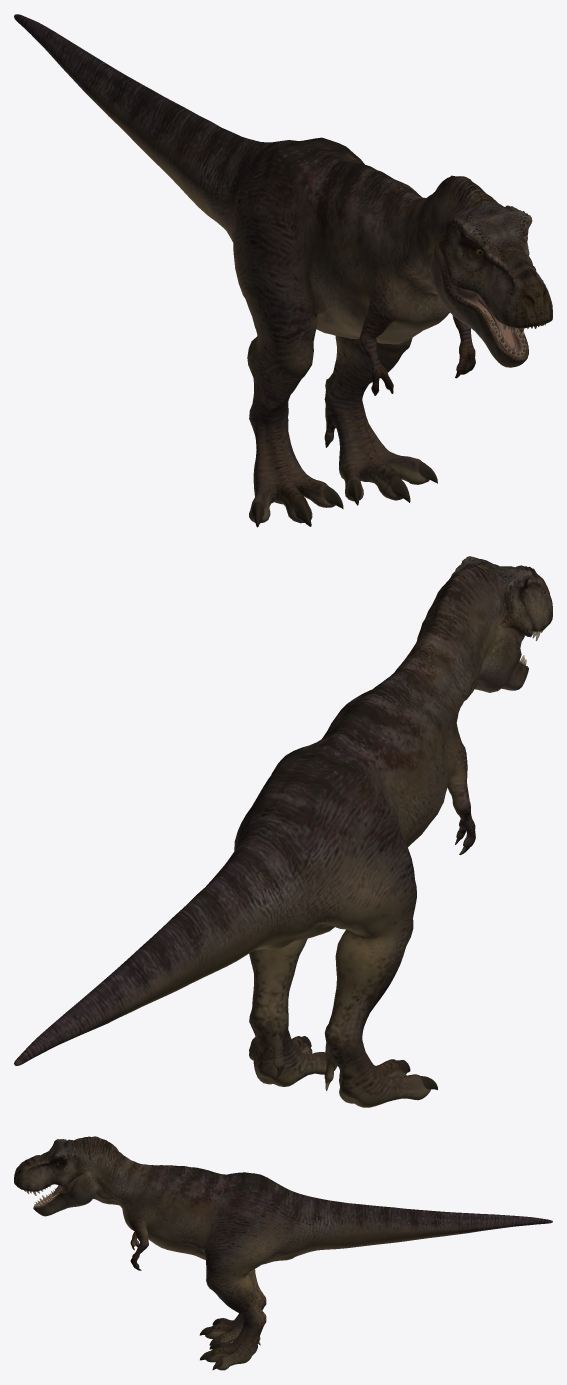
The model's file is tyrannosaurus-rex.glb.
The picture shows the model from 3 angles, top to bottom: view 1: azimuth 30°, elevation 25°; view 2: azimuth 150°, elevation 25°; view 3: azimuth 270°, elevation 25°; orthographic projection. The views are drawn at different scales.
Visible parts, largest first — view 1: Object_4; view 2: Object_4; view 3: Object_4.
Boxes of the visible parts, x1,y1,x2,y2 form: Object_4: (14,14,552,527); Object_4: (14,556,552,1107); Object_4: (14,1136,552,1370).
Size of the model in its own units: 2.68 by 5.89 by 13.51.
Materials: 1 (1 with a texture image).
